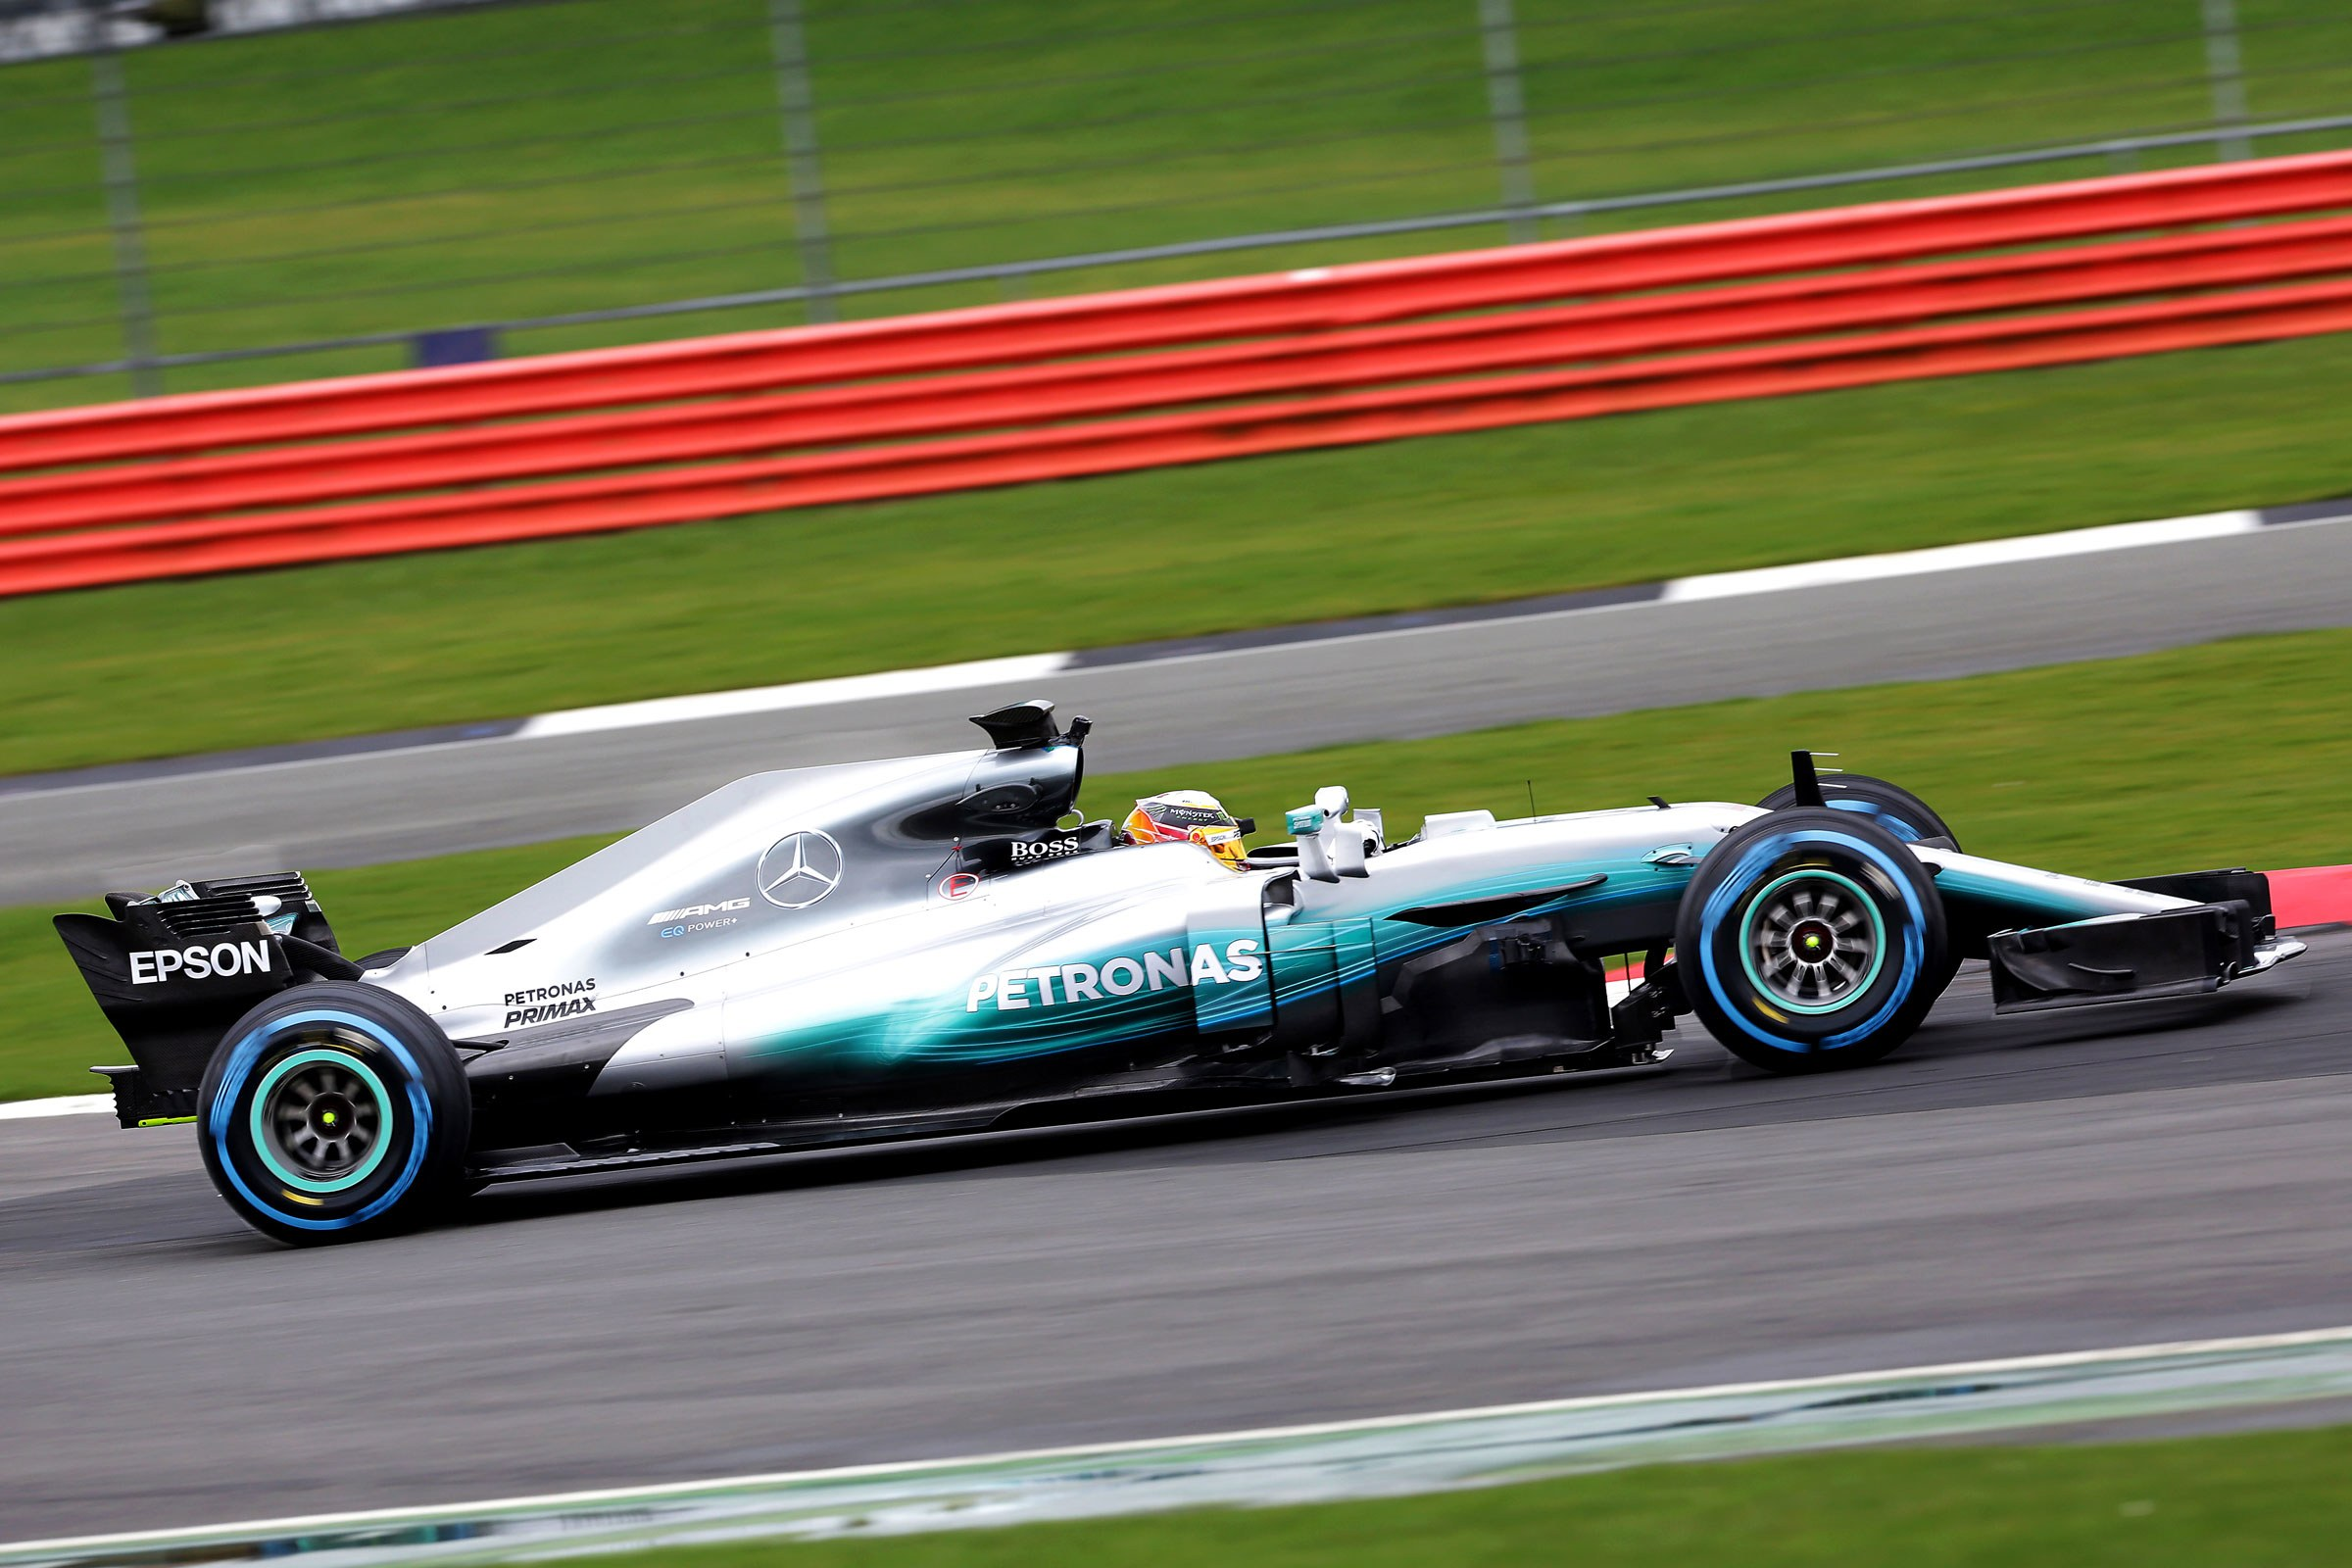f1_car: (37, 665, 2333, 1284)
helmet: (1102, 767, 1274, 903)
